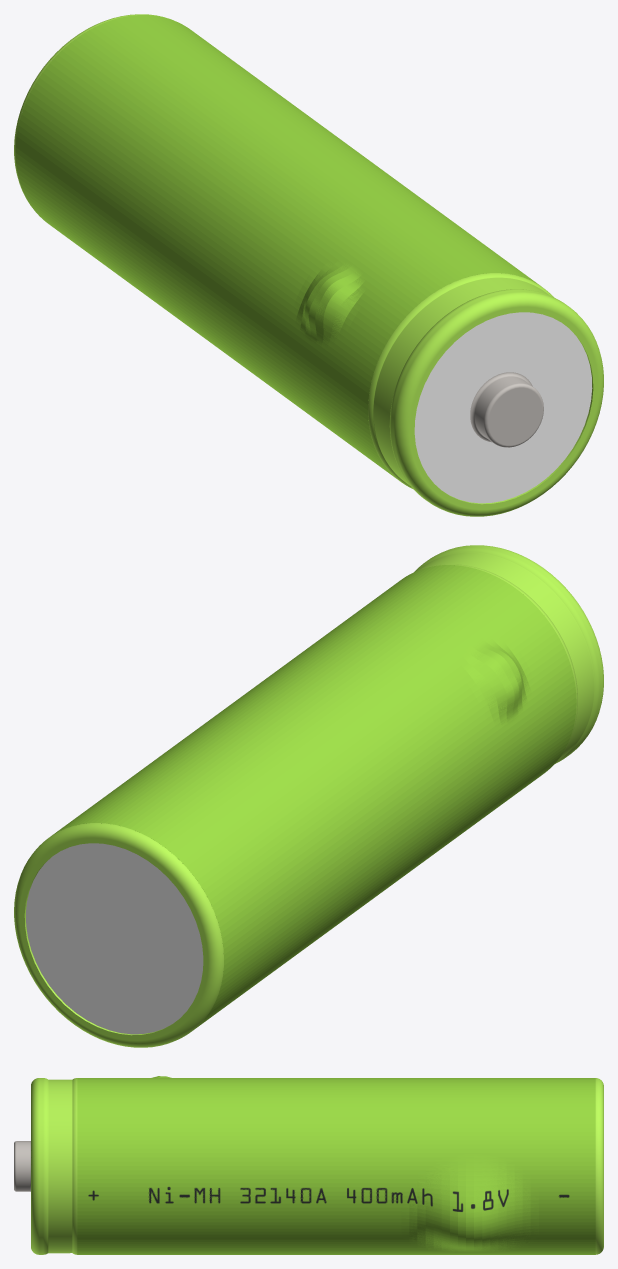
Rendered from defect_10.glb.
3 renders of one model, top to bottom at view 1: azimuth 30°, elevation 25°; view 2: azimuth 150°, elevation 25°; view 3: azimuth 270°, elevation 25°, orthographic. The views are drawn at different scales.
Parts seen in each view (by area): view 1: Cylinder, Cell_Top; view 2: Cylinder, Cell_bottom, Cell_Top; view 3: Cylinder, Cell_Top, Cell_bottom.
Boxes of the visible parts, x1,y1,x2,y2 form: Cylinder: [15, 15, 553, 479]; Cell_Top: [368, 273, 603, 516]; Cylinder: [36, 565, 576, 1030]; Cell_bottom: [14, 823, 223, 1047]; Cell_Top: [414, 545, 603, 764]; Cylinder: [77, 1076, 595, 1254]; Cell_Top: [14, 1078, 77, 1254]; Cell_bottom: [595, 1078, 603, 1254].
Bounding box in the file's own units: 0.0233 × 0.021 × 0.07.
10 materials, 1 textured.
